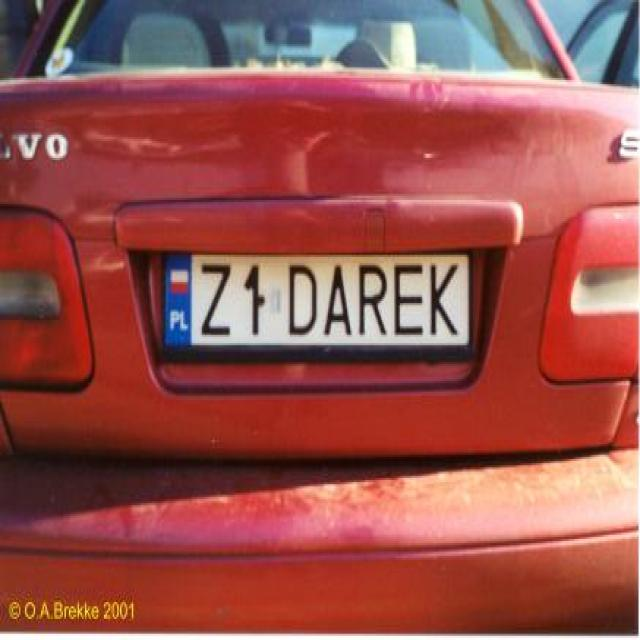pl_license_plate: (164, 253, 469, 345)
